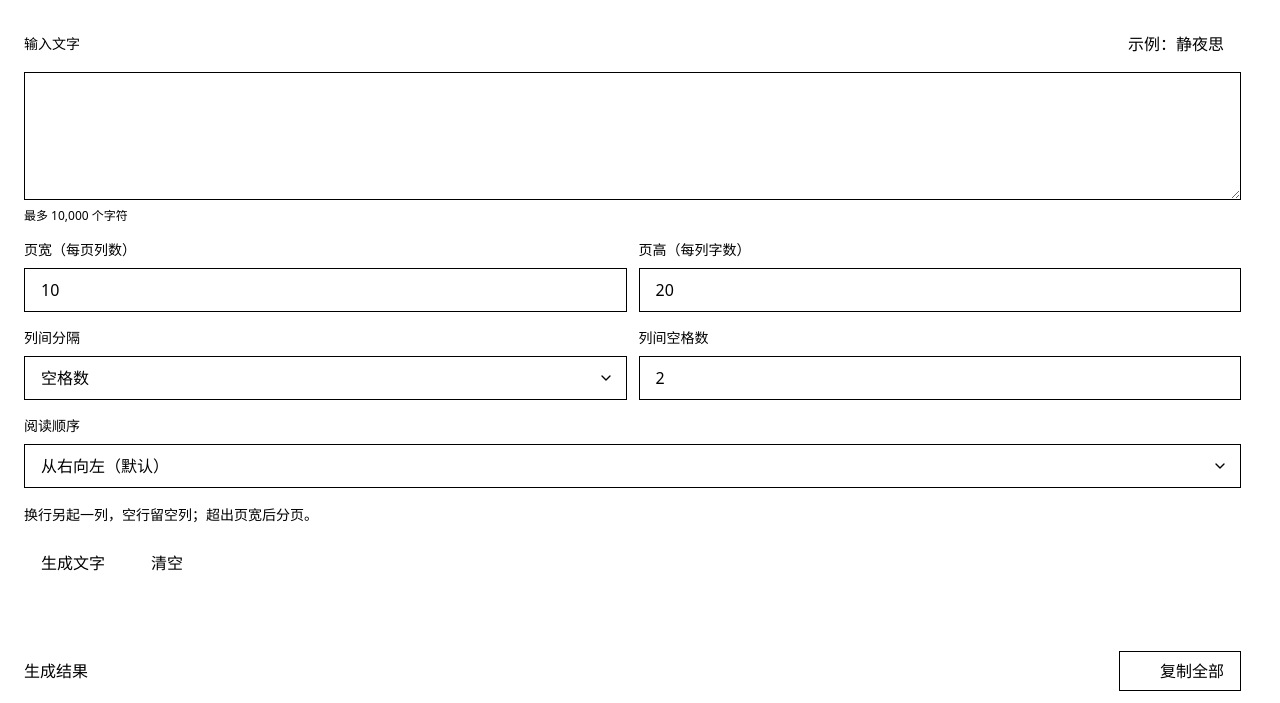
Test: 竖排页设置与文本操作 › 普通Web仅保留文本操作，生成和复制不依赖文件入口
Type "甲乙" into the text box labelled "输入文字" at (632, 136), box 24,72 -> 1241,200
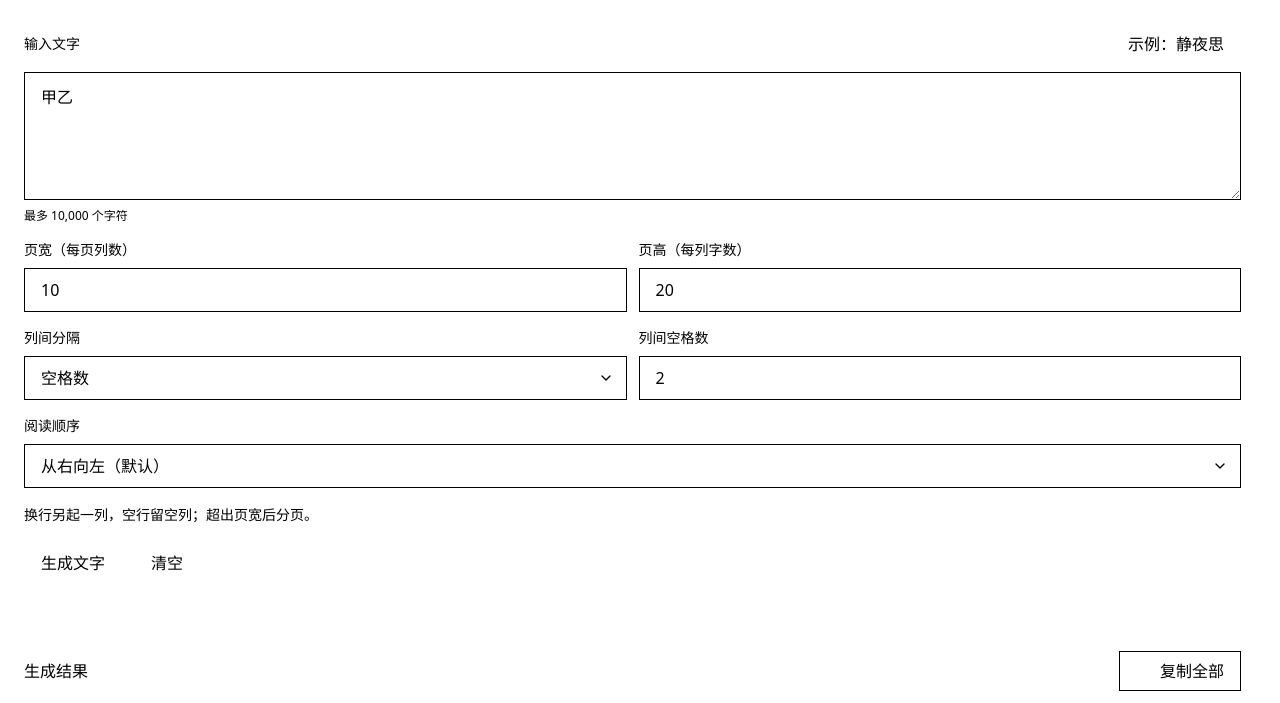
Replace the text in the number field labelled "页宽（每页列数）" with "1" at (325, 290), box 24,268 -> 626,312
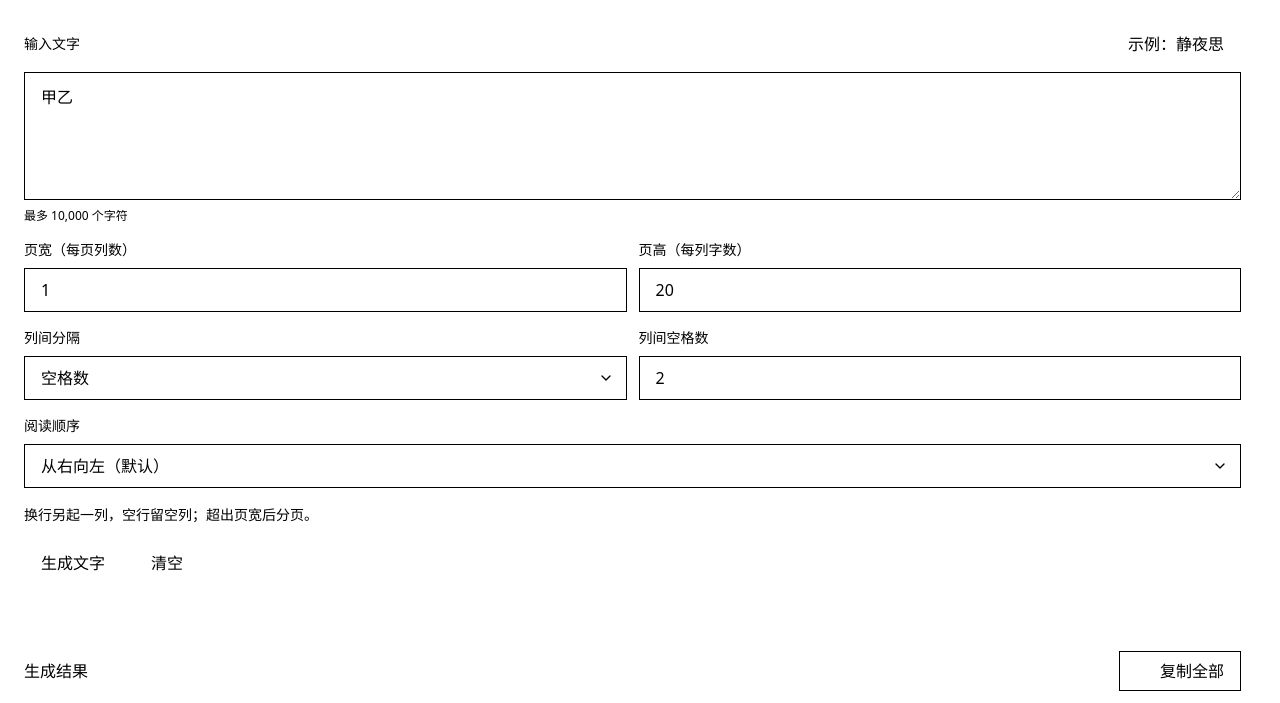
Replace the text in the number field labelled "页高（每列字数）" with "2" at (940, 290), box 638,268 -> 1241,312
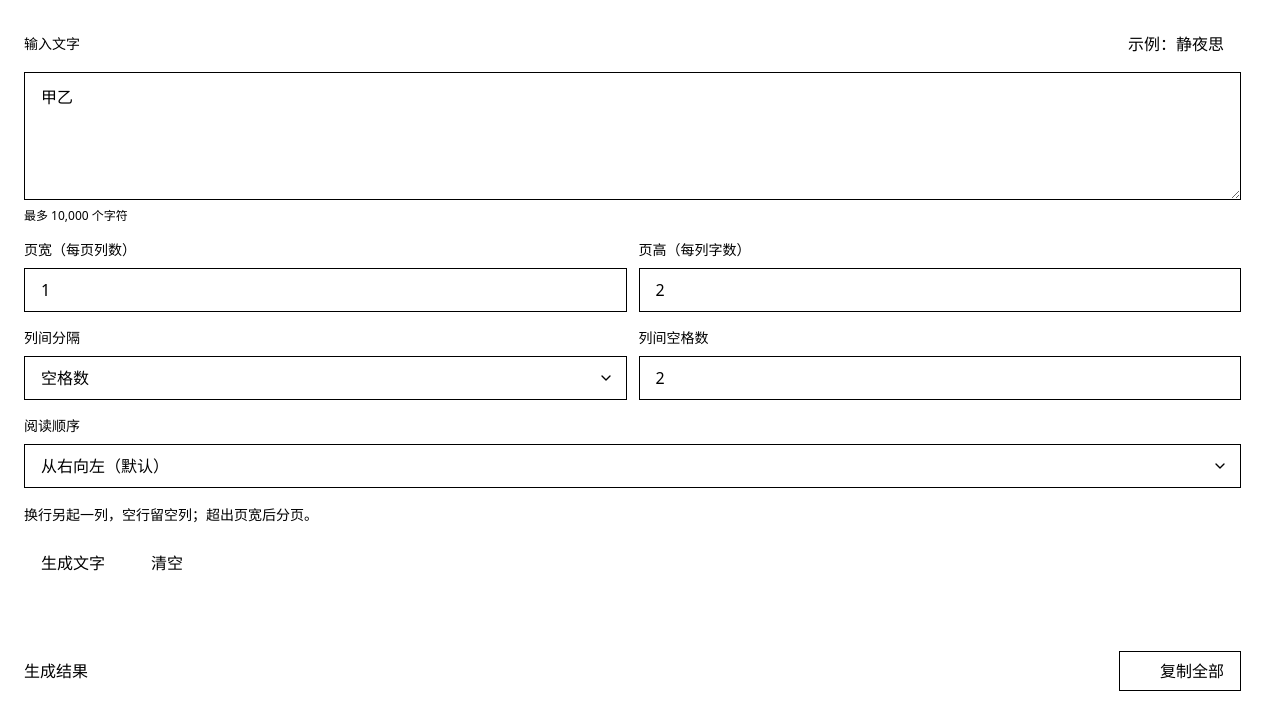
Click the button "生成文字" at (73, 563), box 24,543 -> 122,583
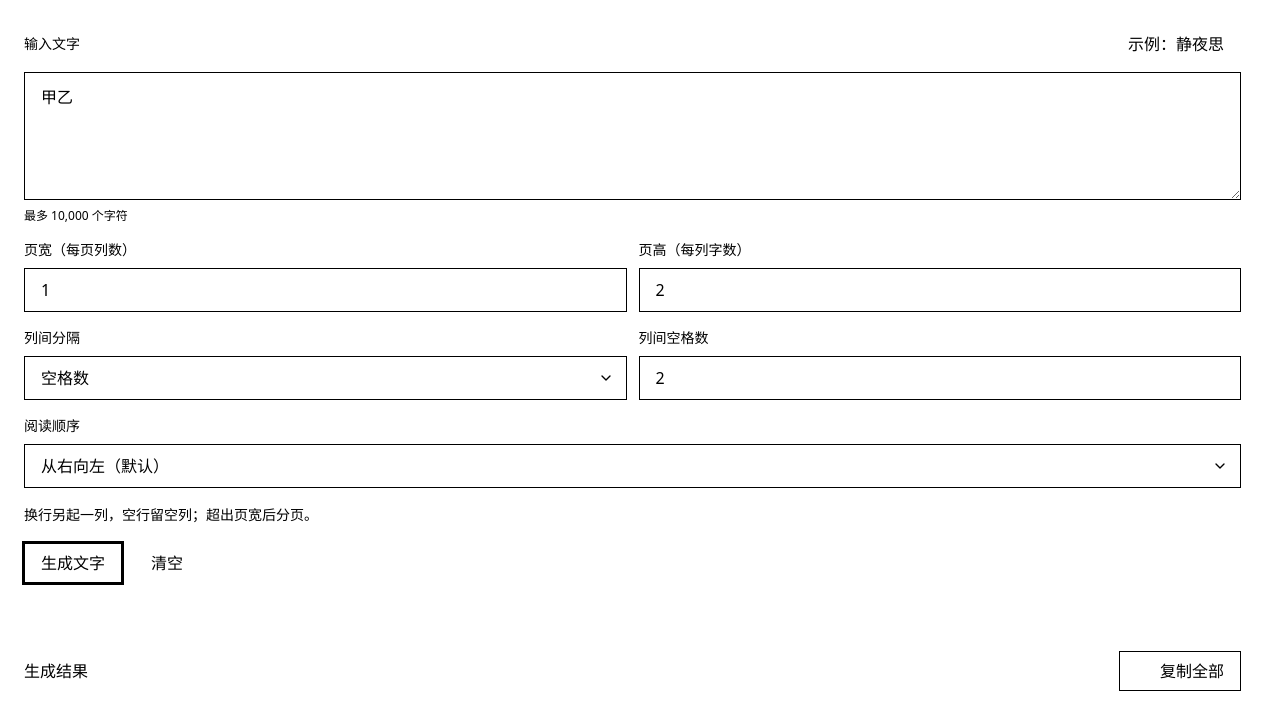
Click the button "复制全部" at (1180, 671), box 1119,651 -> 1241,691
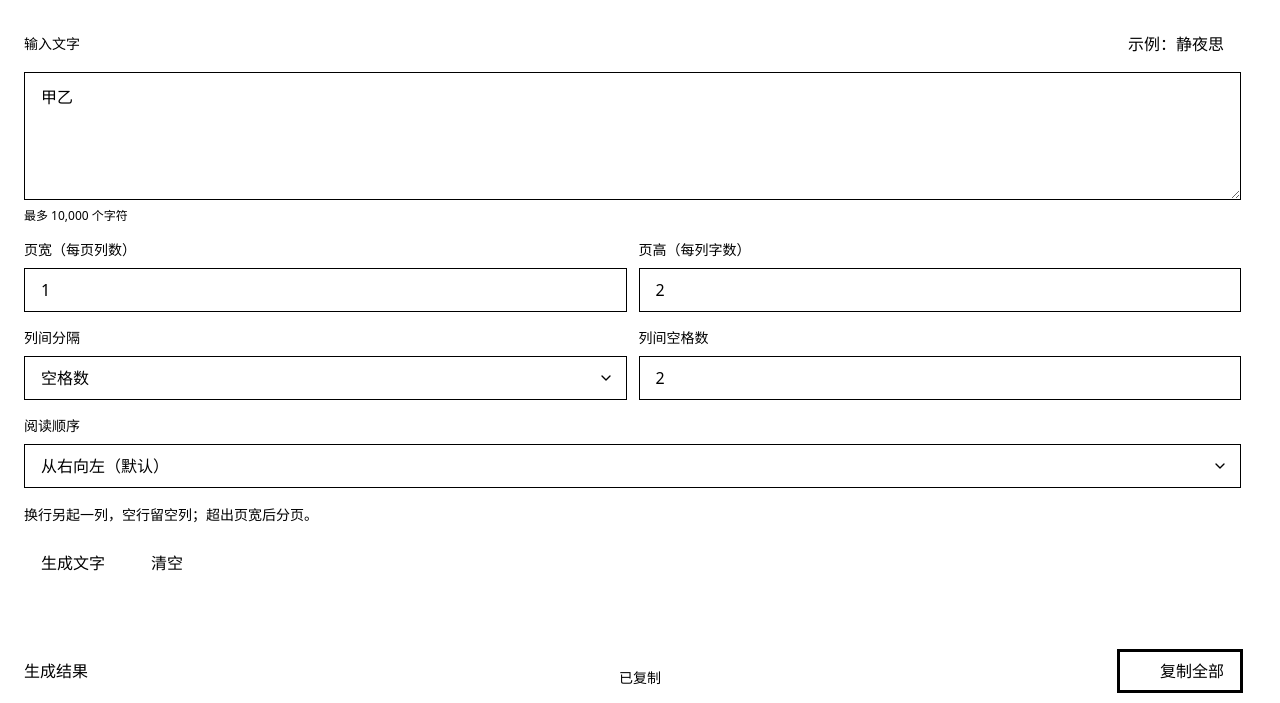
Click the button "清空" at (167, 563), box 134,543 -> 200,583
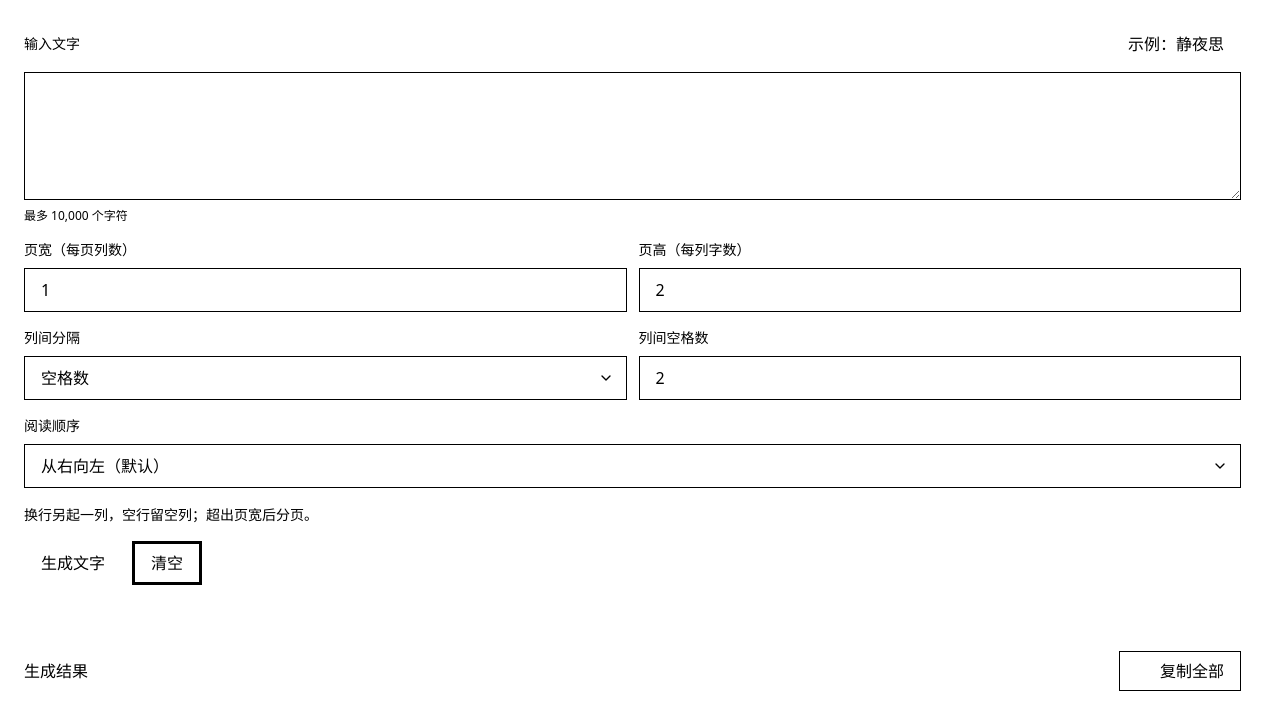
Expected: the button "复制全部" is disabled, 1119,651 -> 1241,691
Expected: the text box labelled "输入文字" is empty, 24,72 -> 1241,200
